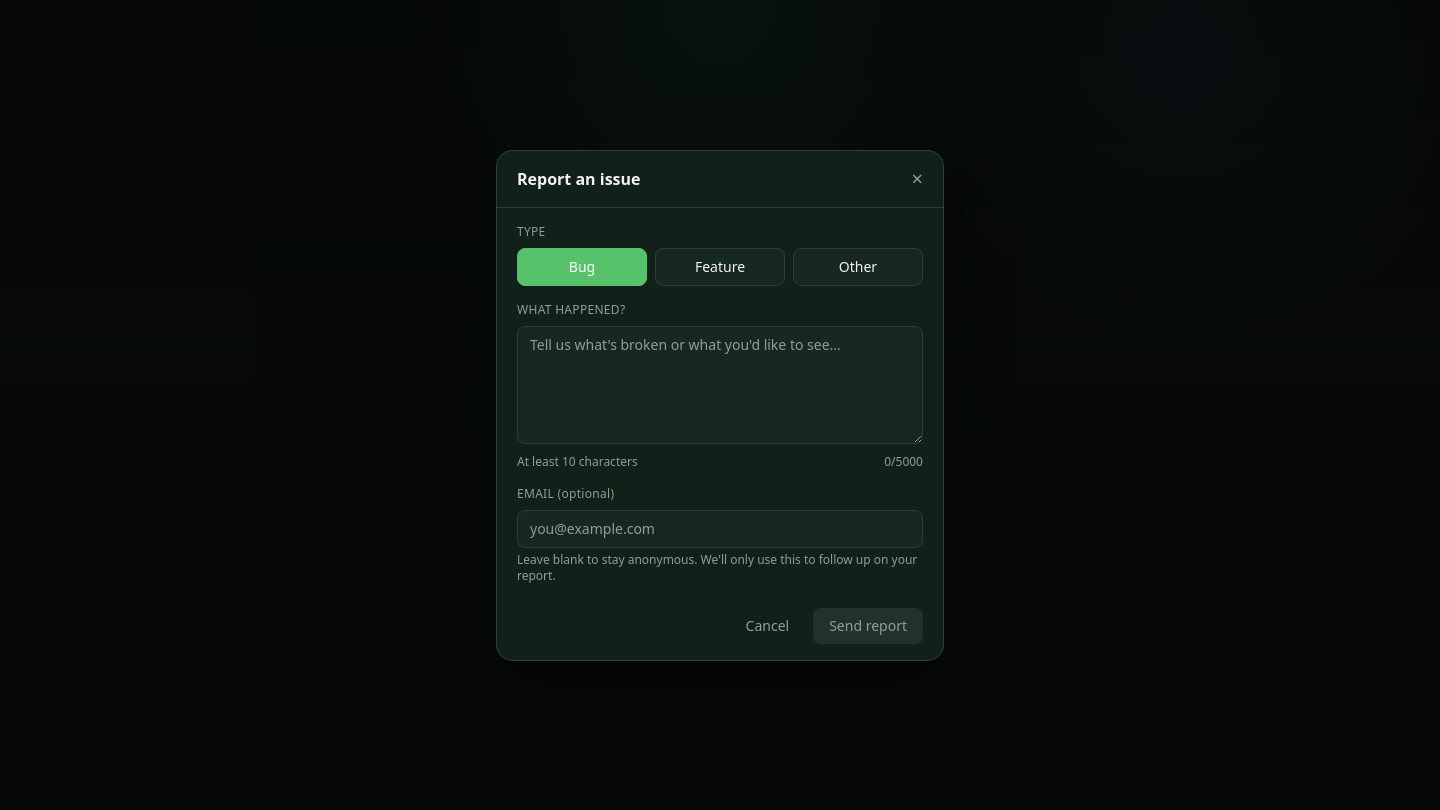
Scenario: ReportDialog › shows an error state when the API rejects the submission
The width and height of the screenshot is (1440, 810).
Type "Something is broken on the analysis screen and it never finishes loading." into the text box labelled "What happened?" at (720, 384), box [517,326,923,444]
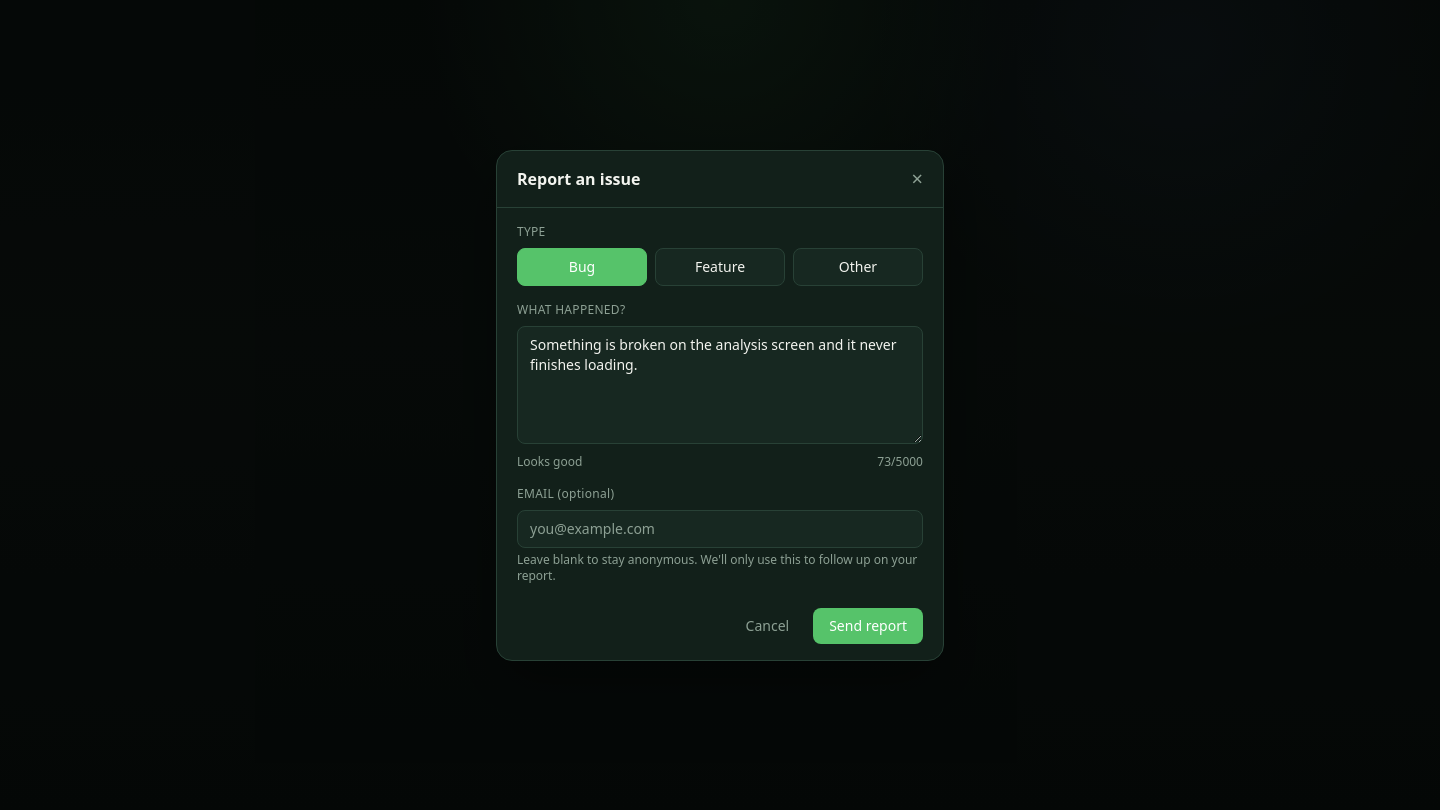
Click the button "Send report" at (868, 626), box [813,608,923,644]
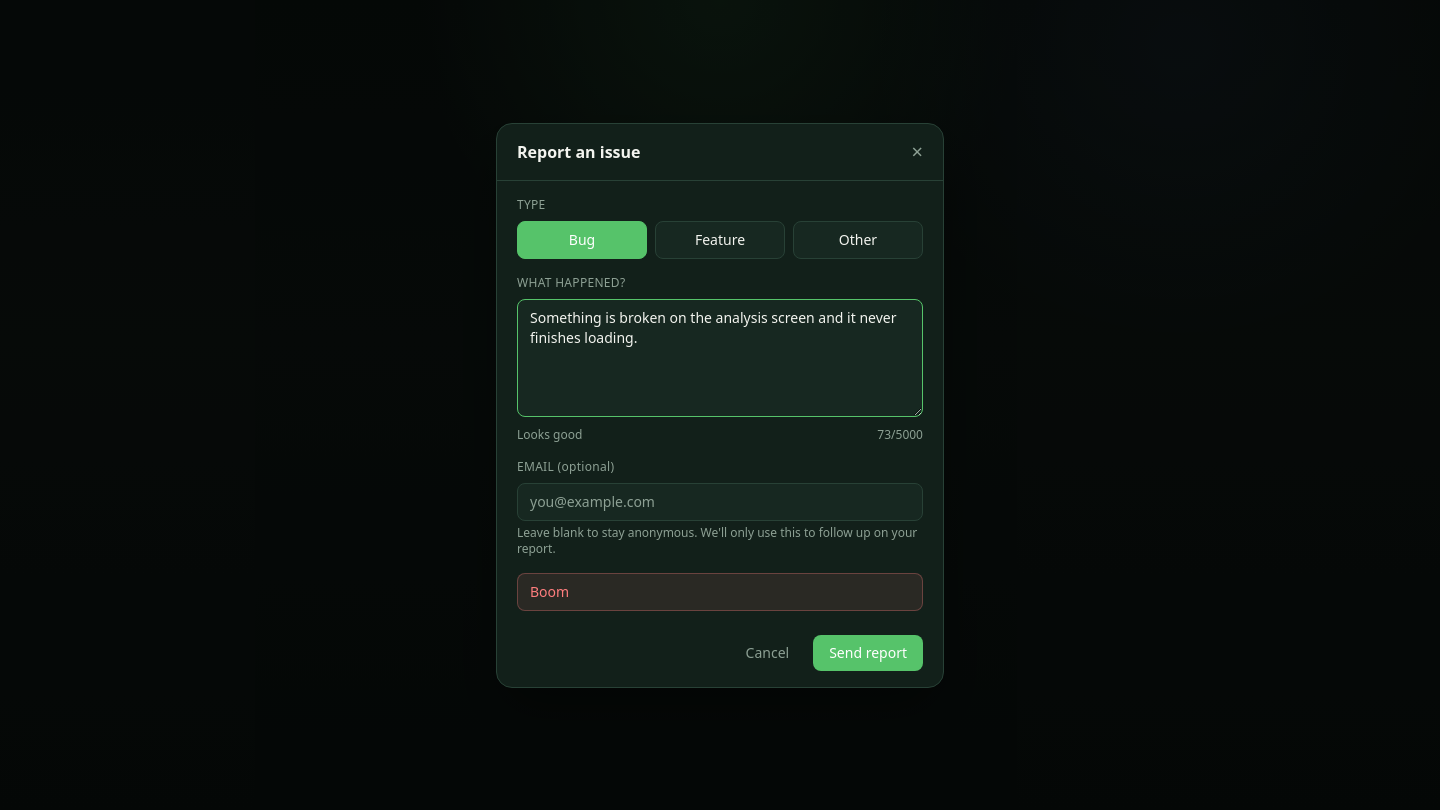
Check: the message reads "Boom", box [530,582,569,600]
